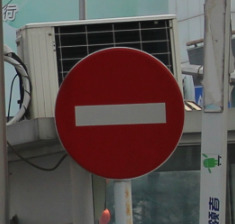no_entry: (55, 47, 186, 181)
